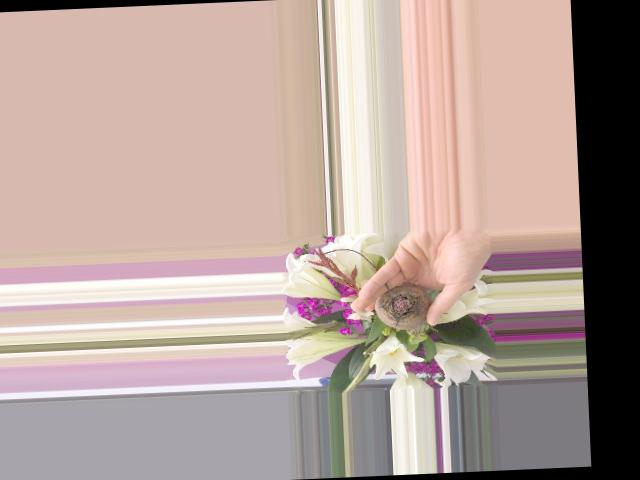beet: (372, 282, 431, 330)
